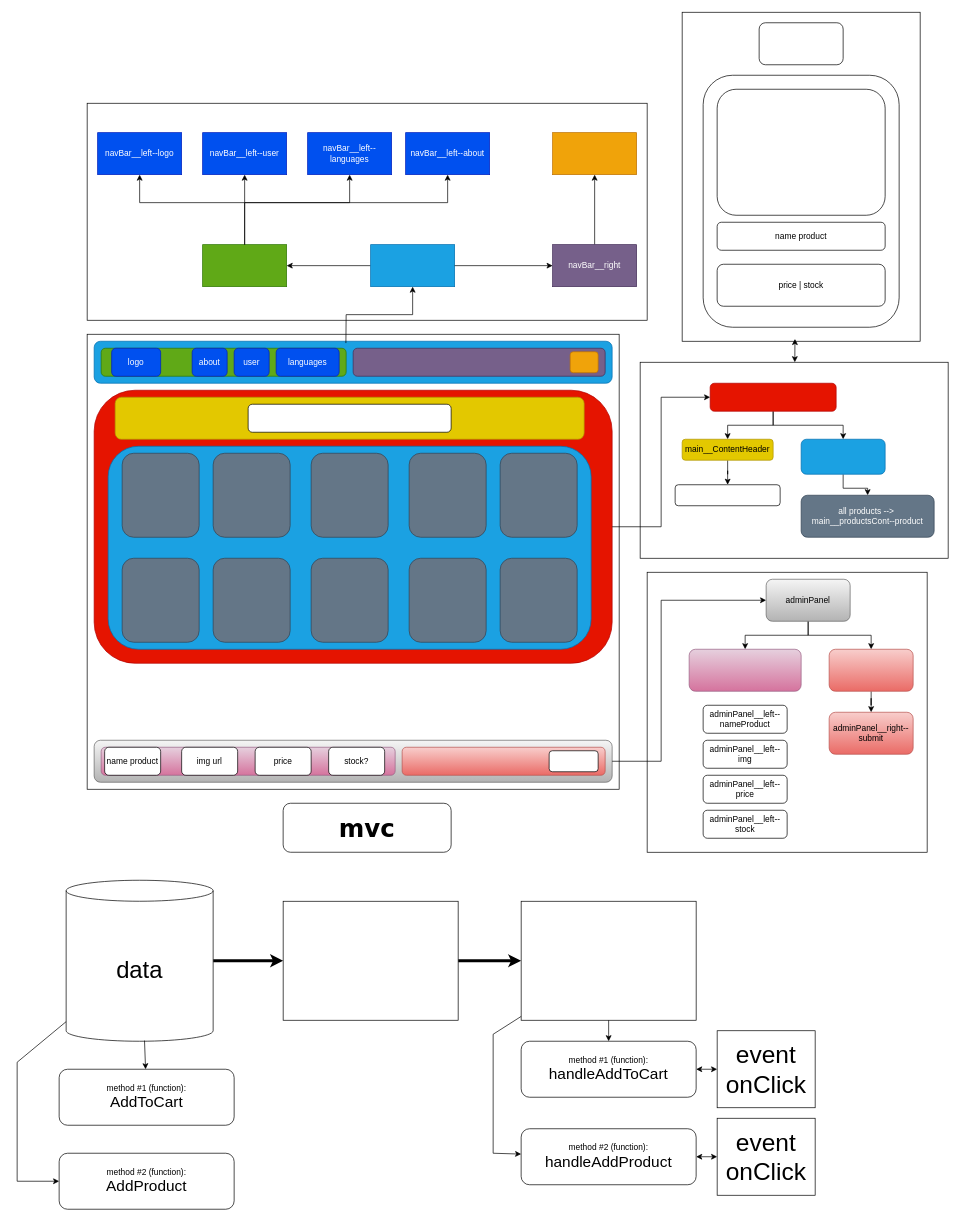
This 960x1222 diagram has some shape labels left out. The shapes that lost their labels are listed below. From the top down, each one's box as (x1, y1, x2, y2) in pixels, then its label:
(758, 22, 843, 65): Example of product
(552, 132, 637, 175): navBar__right--cart
(716, 89, 885, 215): img
(202, 244, 287, 287): navBar__left
(370, 244, 455, 287): navBar
(569, 351, 598, 373): cart
(709, 383, 836, 411): main
(247, 404, 451, 432): Header
(800, 439, 885, 474): main__productsCont
(674, 484, 780, 506): main__contentHeader--header
(688, 649, 801, 691): adminPanel__left
(828, 649, 913, 691): adminPanel__right
(548, 750, 598, 772): submit
(282, 901, 458, 1020): view
(520, 901, 696, 1020): control
